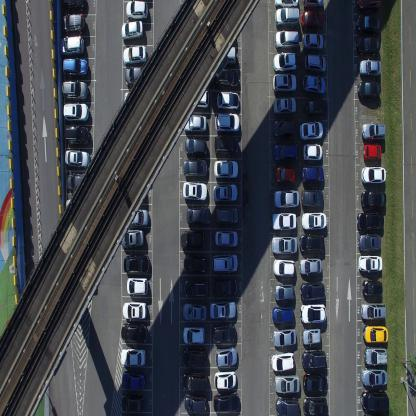car: (361, 387, 389, 411), (356, 210, 384, 233), (61, 78, 89, 101), (355, 13, 382, 36), (182, 179, 208, 202), (213, 391, 240, 413), (181, 370, 208, 392), (183, 88, 210, 110), (62, 102, 89, 124), (63, 124, 90, 146), (300, 302, 326, 324), (272, 51, 298, 73), (121, 321, 148, 342), (209, 299, 237, 319), (300, 8, 324, 31), (274, 7, 299, 29), (212, 276, 237, 298), (181, 346, 206, 368), (122, 44, 147, 66), (60, 12, 85, 34), (59, 34, 84, 56), (360, 189, 386, 210), (214, 112, 240, 133), (62, 57, 88, 78), (362, 324, 389, 344), (211, 253, 238, 273), (124, 66, 151, 86), (360, 367, 388, 386), (364, 344, 387, 367), (299, 119, 323, 141), (302, 348, 326, 370), (121, 369, 145, 391), (273, 29, 298, 50), (213, 158, 238, 179), (183, 254, 208, 275), (186, 206, 211, 227), (123, 90, 148, 111), (274, 189, 300, 209), (213, 135, 239, 155), (124, 254, 150, 274), (64, 198, 90, 218), (271, 235, 298, 254), (64, 148, 91, 167), (66, 172, 93, 191), (273, 118, 296, 140), (125, 0, 148, 22), (271, 351, 295, 372), (212, 323, 236, 344), (299, 232, 324, 252), (361, 164, 386, 184), (302, 395, 327, 415), (272, 72, 297, 92), (183, 158, 208, 178), (301, 211, 327, 230), (360, 302, 386, 321), (271, 212, 297, 231), (273, 143, 299, 162), (212, 183, 238, 202), (182, 302, 208, 321), (214, 44, 236, 66), (301, 187, 324, 208), (214, 346, 237, 367), (121, 392, 144, 413), (300, 280, 324, 300), (303, 372, 327, 392), (273, 327, 297, 347), (357, 80, 381, 100), (356, 36, 380, 56), (302, 76, 326, 96), (214, 68, 238, 88), (214, 228, 238, 248), (184, 278, 208, 298), (180, 230, 204, 250), (184, 136, 208, 156), (358, 254, 383, 273), (275, 396, 300, 415), (274, 374, 300, 392), (123, 208, 149, 226), (120, 348, 146, 366), (302, 163, 324, 184), (361, 278, 383, 299), (304, 53, 326, 74), (272, 258, 295, 278), (216, 90, 239, 110), (184, 394, 207, 414), (182, 324, 205, 344), (361, 121, 385, 140), (357, 233, 381, 252), (120, 228, 144, 247), (122, 301, 146, 320), (359, 57, 381, 77), (214, 370, 236, 390), (120, 21, 142, 41), (299, 256, 322, 275), (273, 96, 296, 115), (215, 206, 238, 225), (304, 98, 328, 116), (183, 114, 207, 132), (301, 327, 322, 347), (302, 32, 323, 52), (272, 306, 295, 324), (302, 142, 323, 161), (274, 283, 295, 302), (126, 277, 148, 295), (275, 166, 295, 184), (356, 0, 381, 14), (363, 143, 381, 162), (62, 0, 86, 12), (274, 0, 298, 8), (302, 0, 324, 8)
